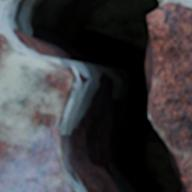broken_brick: (0, 33, 72, 191), (149, 2, 191, 191)
crack: (1, 0, 189, 191)
